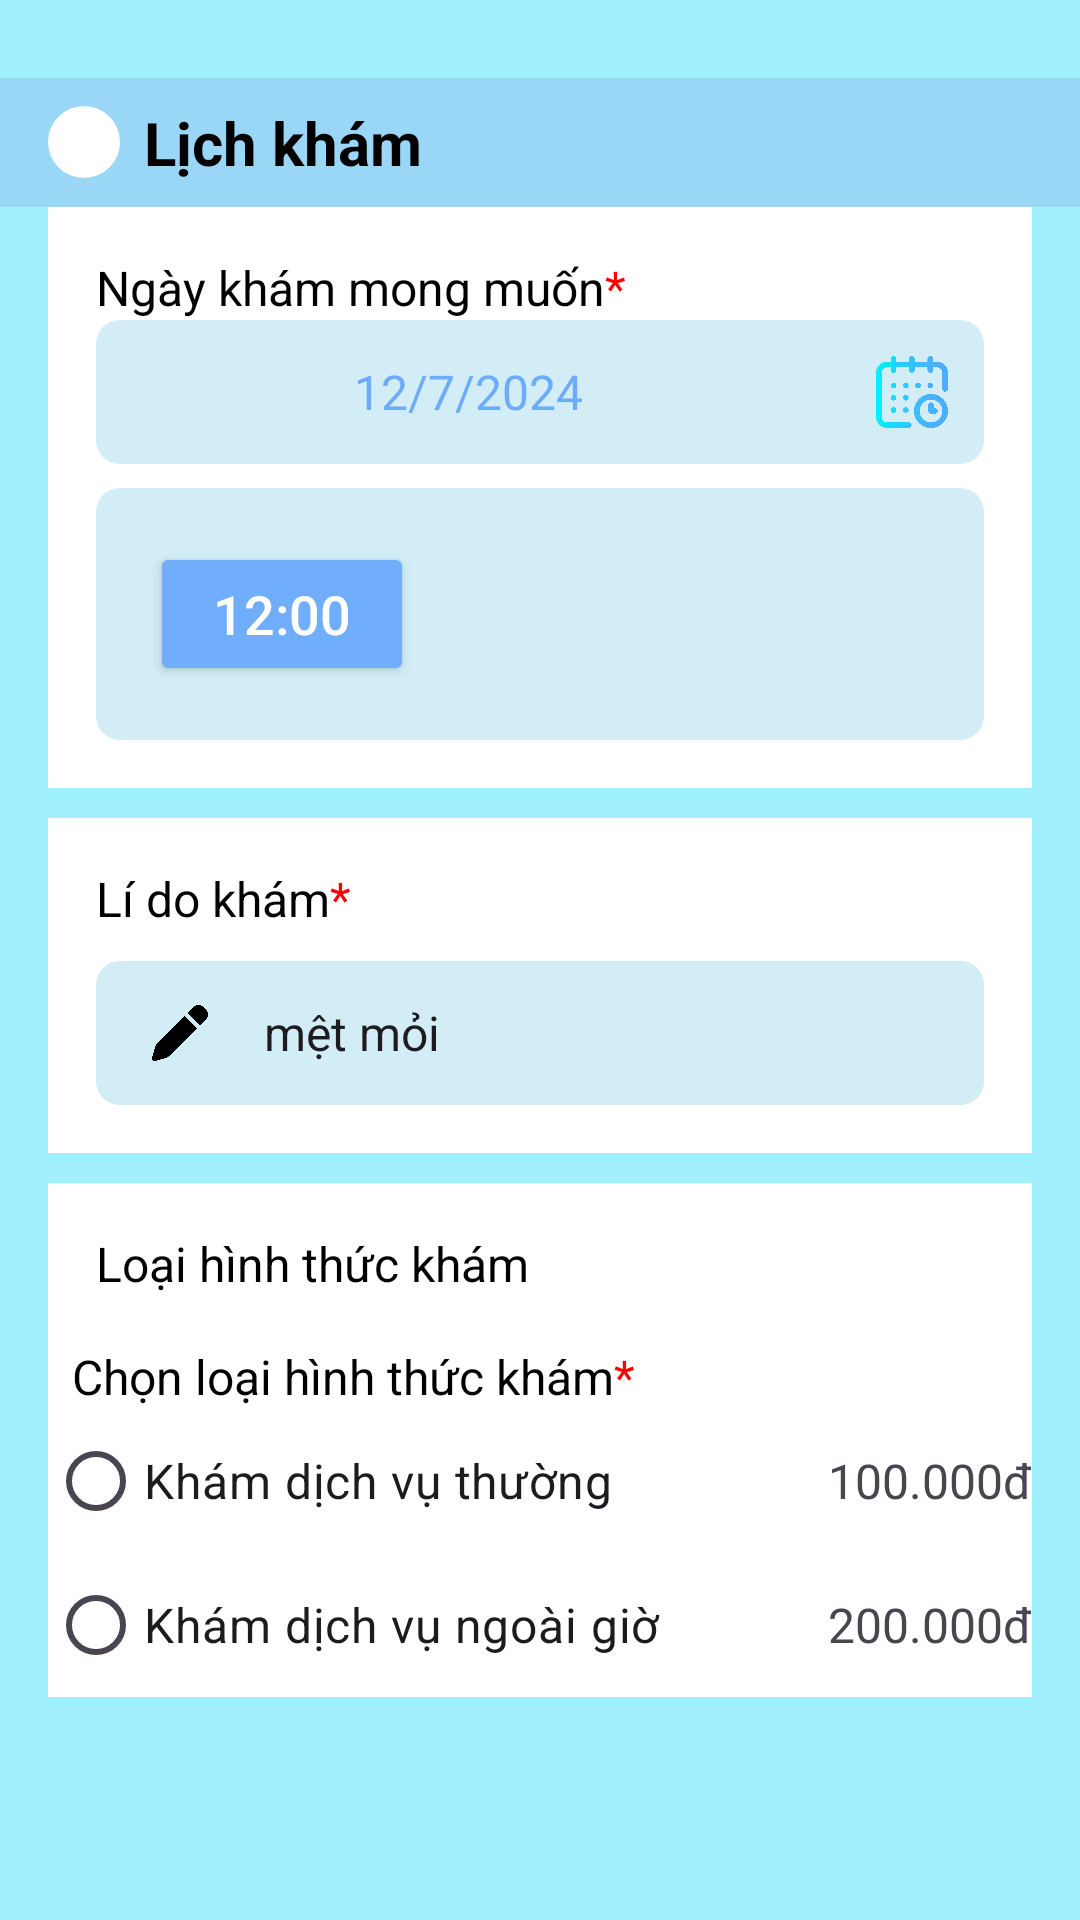

Point at icon controls on the screen. Image size 1080×1920, points as point (x, y).
Calendar Icon: point (912, 392)
edit: point (180, 1033)
